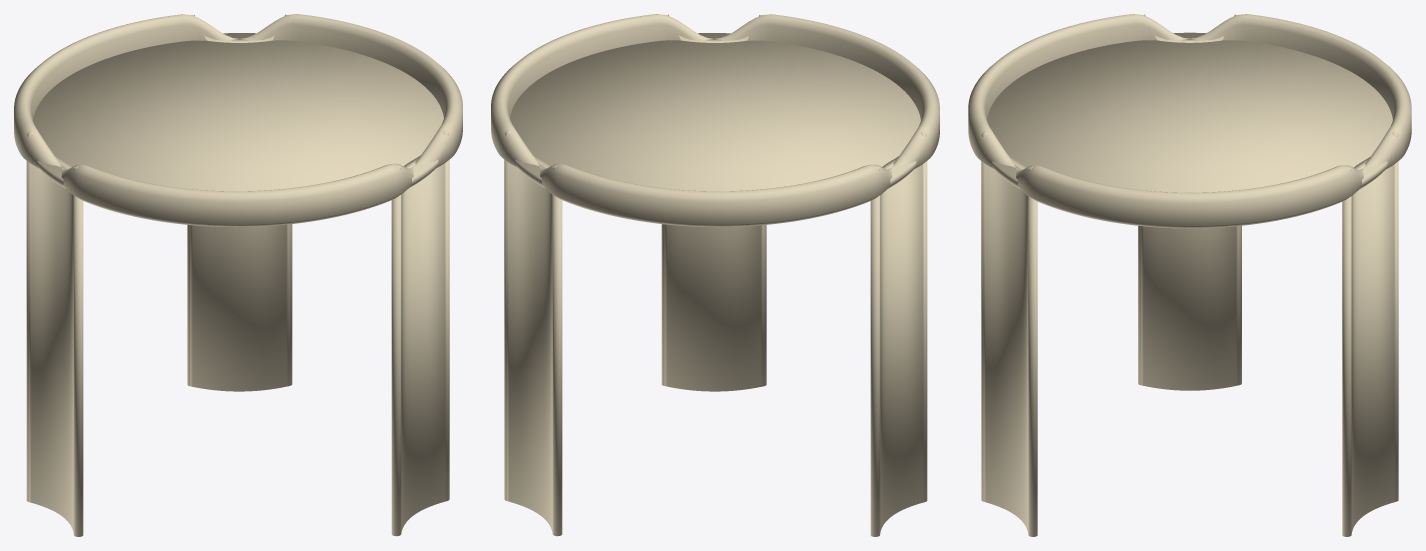
The model's file is stoppino-large.glb.
The picture shows the model from 3 angles, left to right: view 1: azimuth 30°, elevation 25°; view 2: azimuth 150°, elevation 25°; view 3: azimuth 270°, elevation 25°; orthographic projection.
Visible parts, largest first — view 1: stoppino-large; view 2: stoppino-large; view 3: stoppino-large.
Boxes of the visible parts, box(x1,y1,x2,y2) form: stoppino-large: box(14, 14, 462, 536); stoppino-large: box(491, 14, 939, 536); stoppino-large: box(968, 14, 1411, 536).
Size of the model in its own units: 0.47 by 0.4338 by 0.47.
